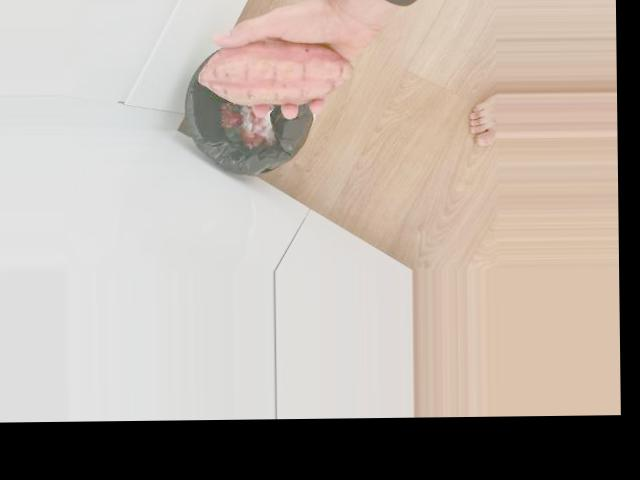sweet_potato: (200, 36, 358, 103)
